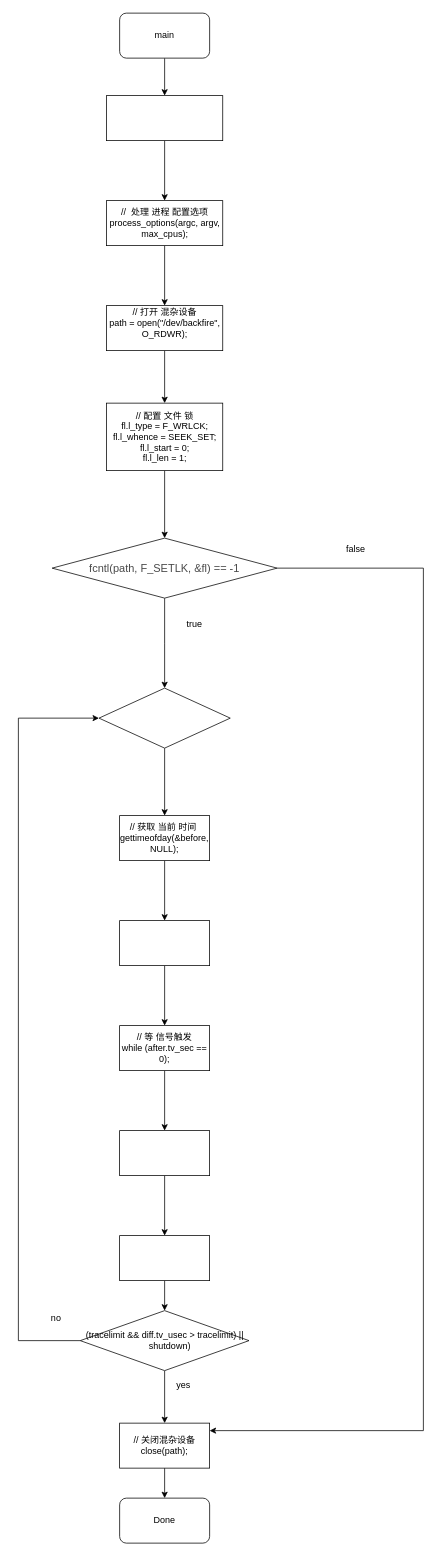
This 443x1556 diagram has some shape labels left out. Each missing label, with the box of its shape:
// 写 文件 ，会调用 混杂设备 定义 的 write write(path, sigtest, strlen(sigtest));: (119, 920, 210, 966)
// 读 文件 read(path, timestamp, sizeof(timestamp));: (119, 1130, 210, 1176)
int path; // 文件路径 struct flock fl; // 文件锁: (106, 95, 223, 141)
while(1): (98, 687, 230, 748)
计算 用户空间 到 驱动 时间 和 驱动到 用户 空间 时间，并打印: (119, 1235, 210, 1281)
